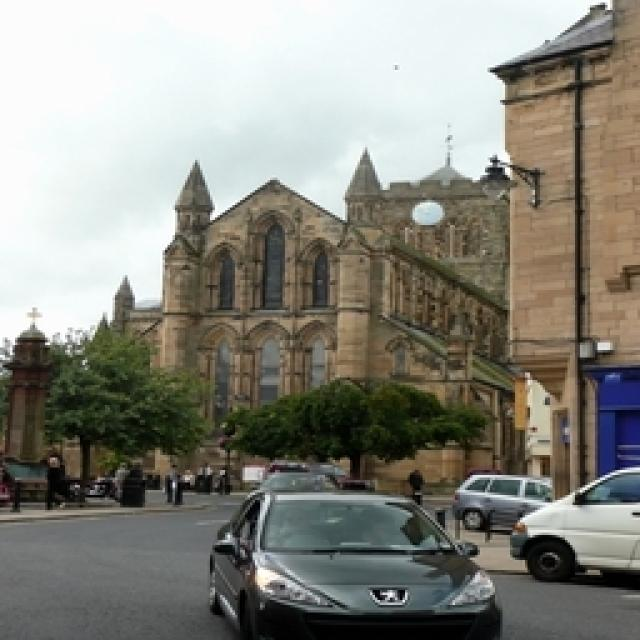Abbey: (195, 217, 342, 407)
